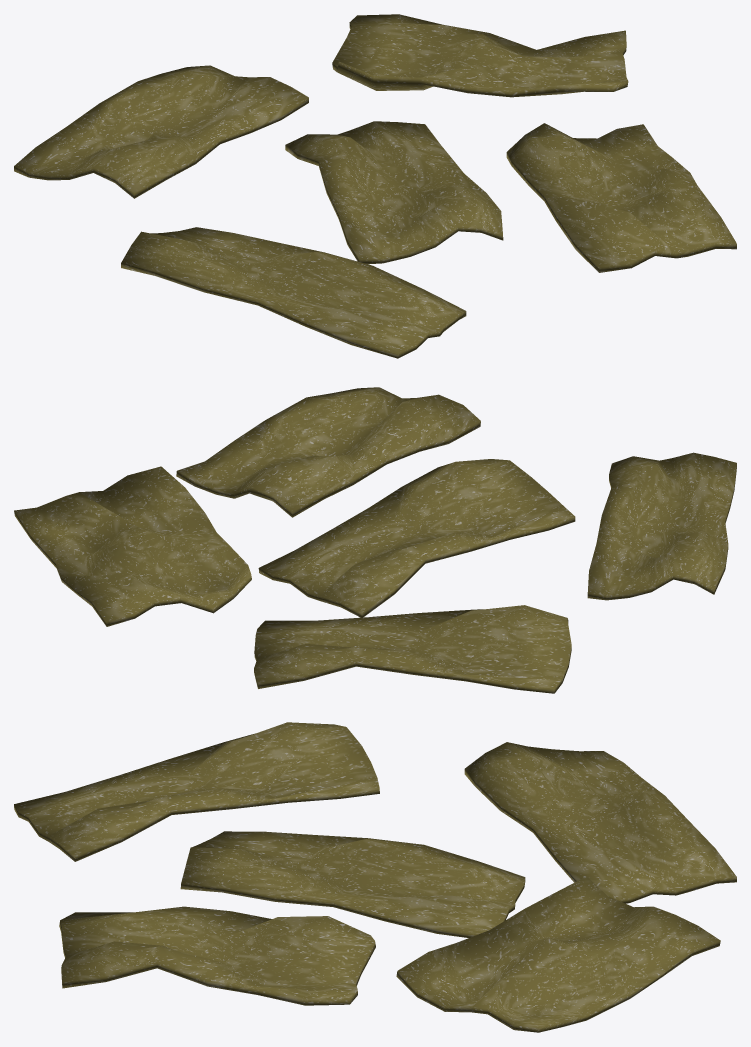
File: yakiniku_01_d.glb
3 renders of one model, top to bottom at view 1: azimuth 30°, elevation 25°; view 2: azimuth 150°, elevation 25°; view 3: azimuth 270°, elevation 25°, orthographic. The views are drawn at different scales.
Visible parts, largest first — view 1: yakiniku.001; view 2: yakiniku.001; view 3: yakiniku.001.
Boxes of the visible parts, left/top/right/bottom form: yakiniku.001: left=14, top=14, right=736, bottom=358; yakiniku.001: left=14, top=387, right=736, bottom=693; yakiniku.001: left=14, top=722, right=736, bottom=1032.
Bounding box in the file's own units: 0.1808 × 0.0133 × 0.1797.
1 material, 1 textured.
